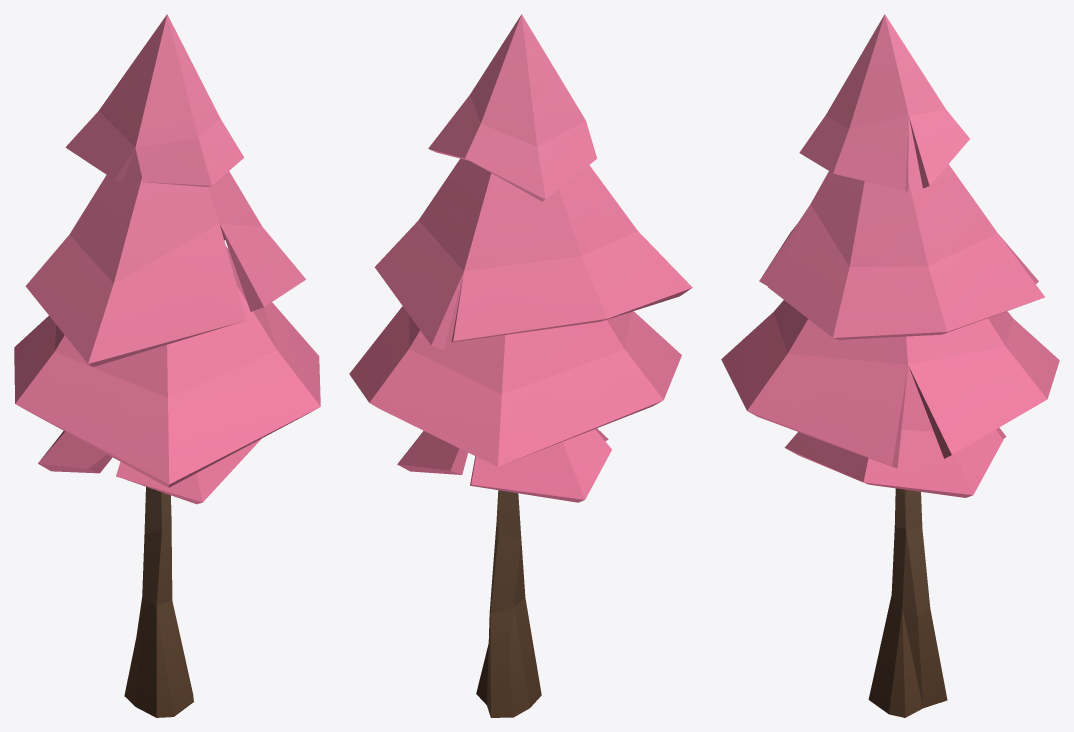
Rendered from Tree_Pine_Pink_01.fbx.
The picture shows the model from 3 angles, left to right: view 1: azimuth 30°, elevation 25°; view 2: azimuth 150°, elevation 25°; view 3: azimuth 270°, elevation 25°; orthographic projection. The views are drawn at different scales.
Parts seen in each view (by area): view 1: Tree_Pine_Pink; view 2: Tree_Pine_Pink; view 3: Tree_Pine_Pink.
Boxes of the visible parts, bbox=[...] form: Tree_Pine_Pink: bbox=[14, 14, 320, 717]; Tree_Pine_Pink: bbox=[349, 14, 692, 717]; Tree_Pine_Pink: bbox=[721, 14, 1059, 717].
Size of the model in its own units: 5.47 by 11.97 by 5.35.
